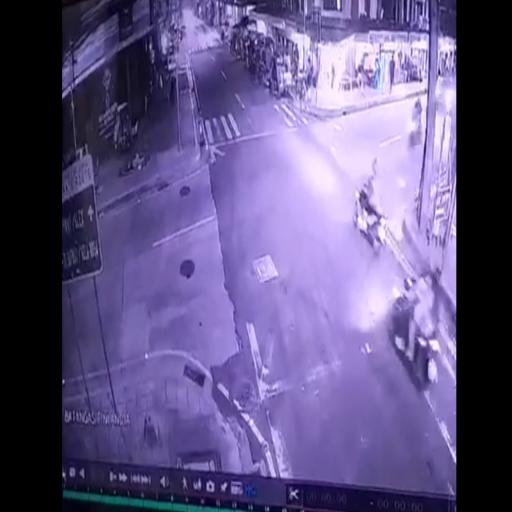Motor: (390, 262, 438, 387), (356, 161, 386, 252), (409, 90, 424, 147)
Not Accident: (355, 161, 439, 388)
